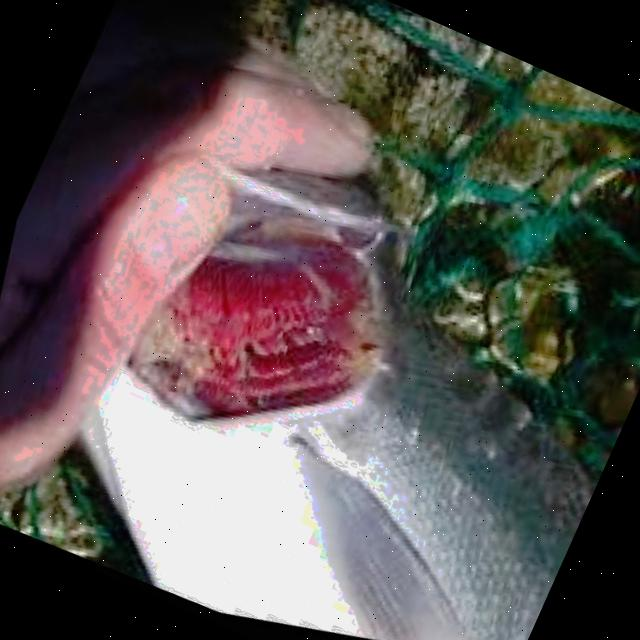Flavobacterium -Bacterial Gill Disease-: (85, 168, 595, 640), (86, 169, 595, 640)
